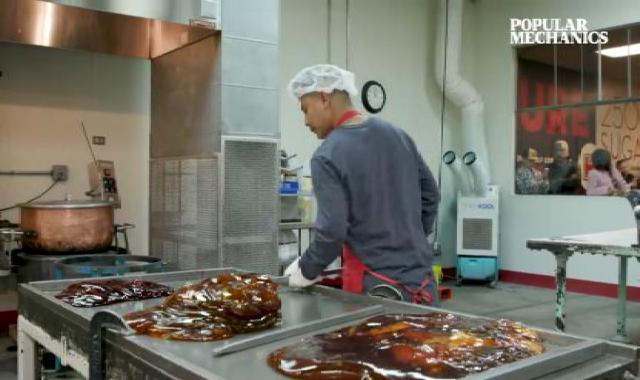hairnet: (282, 62, 363, 104)
